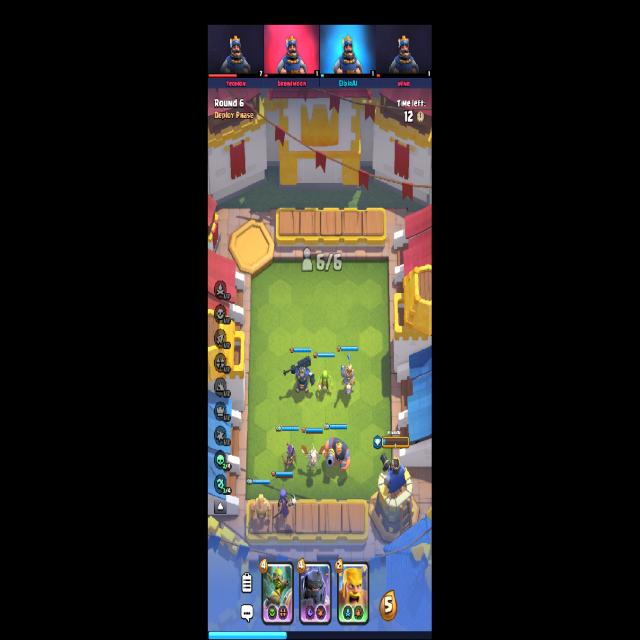archer_queen: (281, 443, 298, 473)
card_barbarian: (337, 561, 369, 626)
card_goblin_machine: (261, 563, 295, 625)
card_mega_knight: (298, 560, 332, 625)
goblin: (318, 370, 332, 395)
golden_knight: (248, 493, 272, 528)
princess: (341, 354, 355, 396)
royal_giant: (324, 438, 350, 473)
skeleton_dragon: (301, 442, 327, 472)
skeleton_king: (284, 356, 315, 395)
witch: (273, 489, 296, 524)
